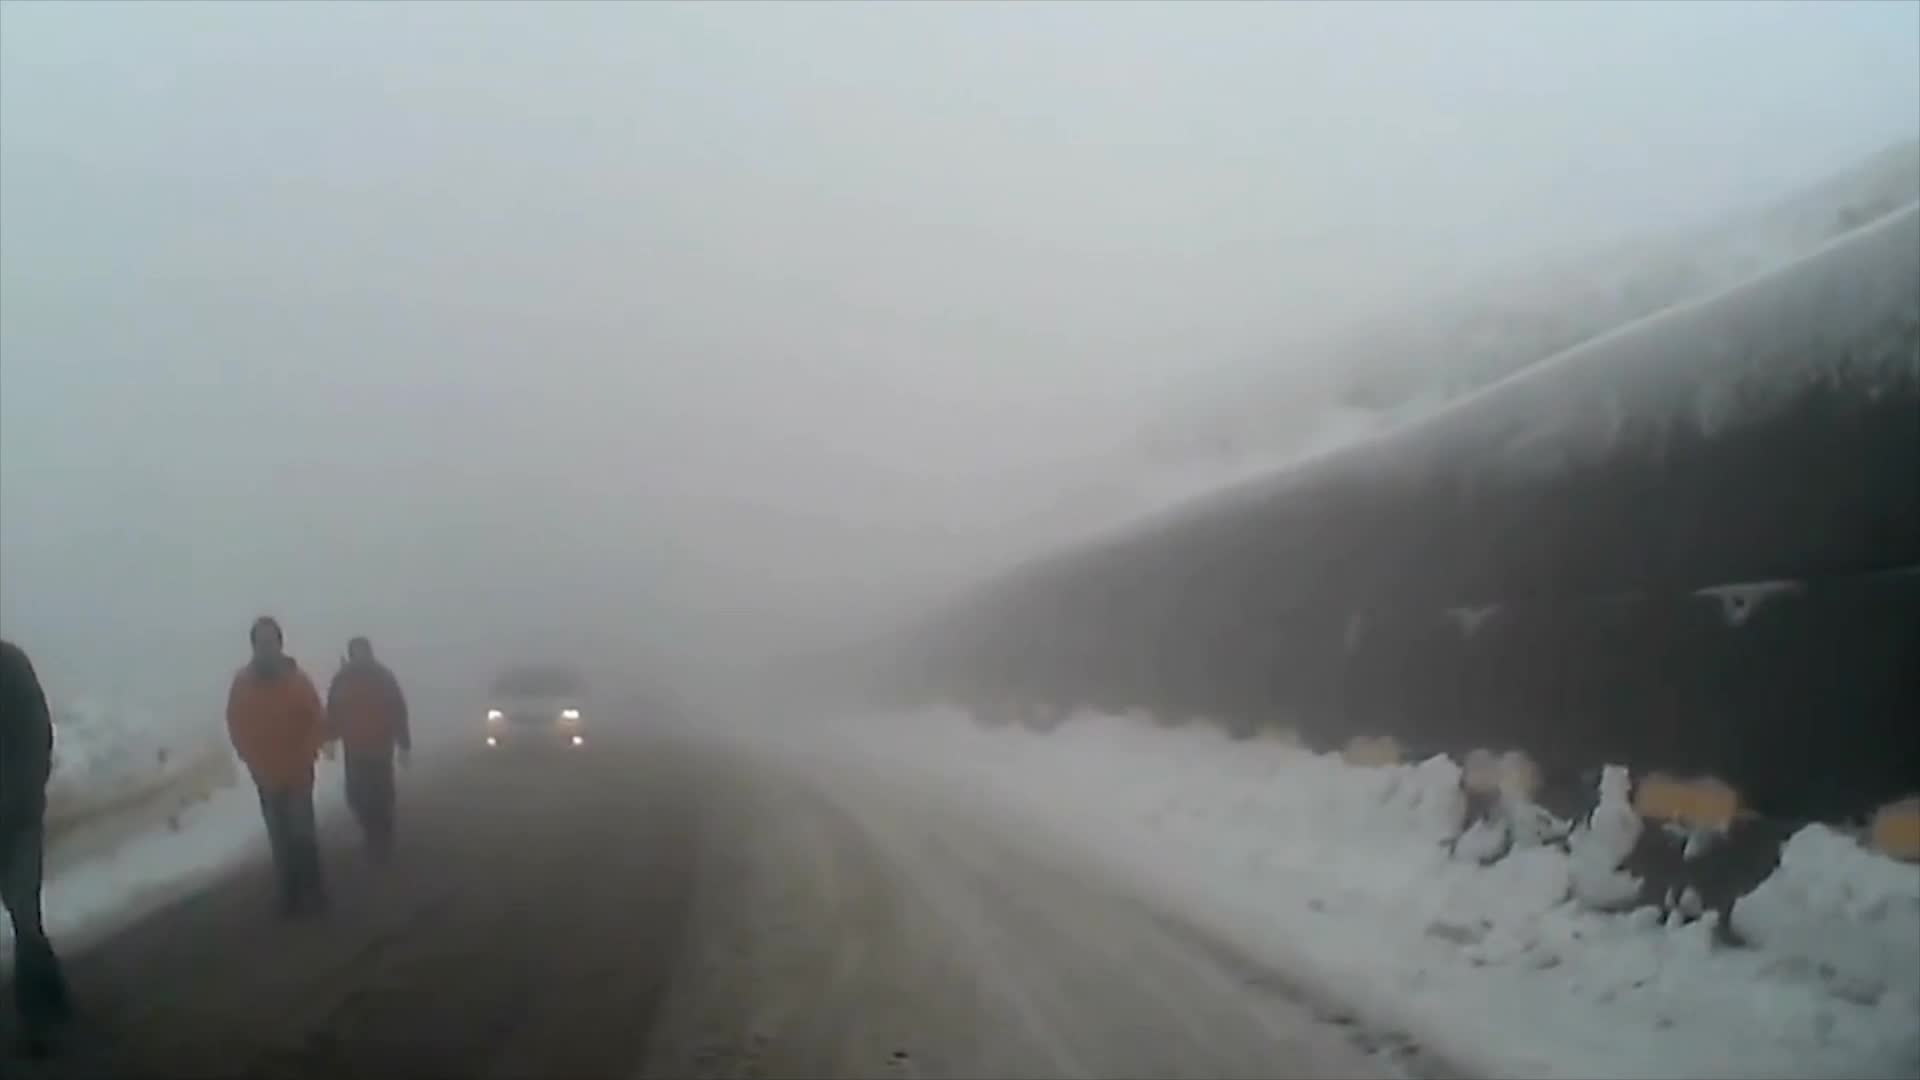pedestrian: (1, 579, 78, 1060), (230, 615, 335, 913), (329, 638, 411, 867)
vehicle: (481, 665, 591, 763)
